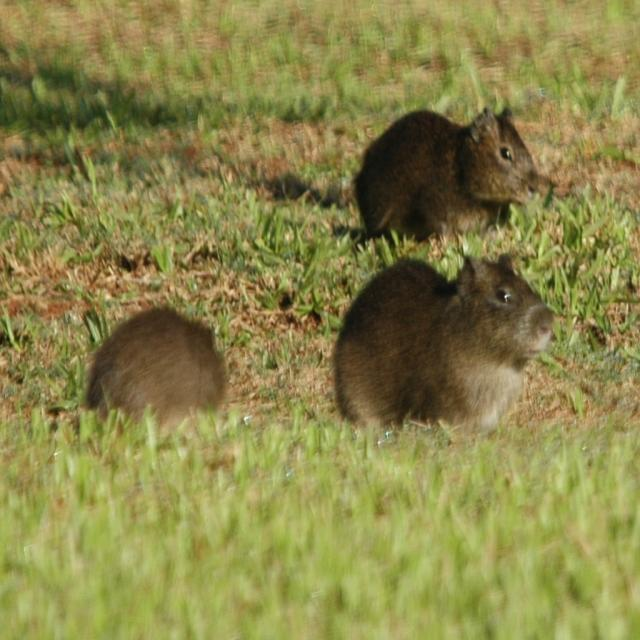rat: (328, 251, 558, 432), (352, 105, 540, 238), (78, 302, 228, 429)
